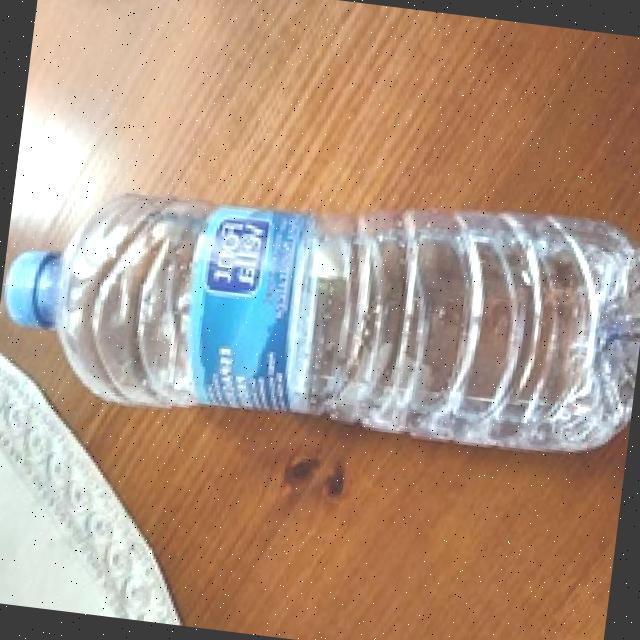bottle: (0, 155, 640, 467)
cap: (0, 246, 66, 338)
label: (176, 185, 324, 422)
